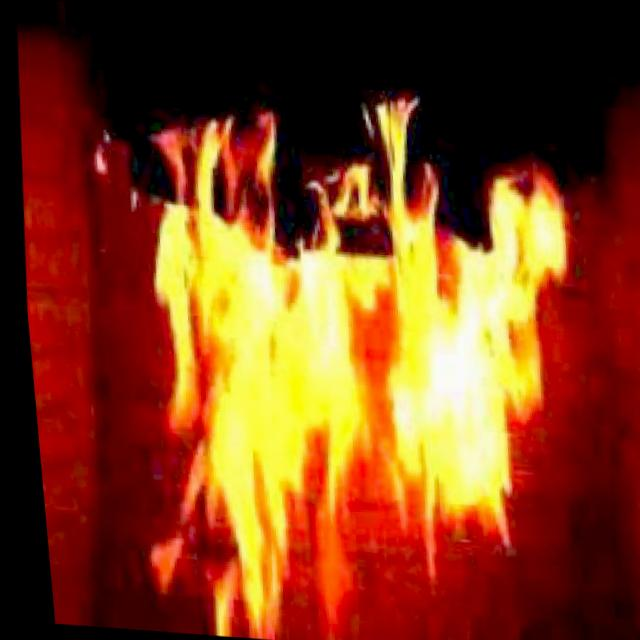helmet: (49, 58, 610, 640)
